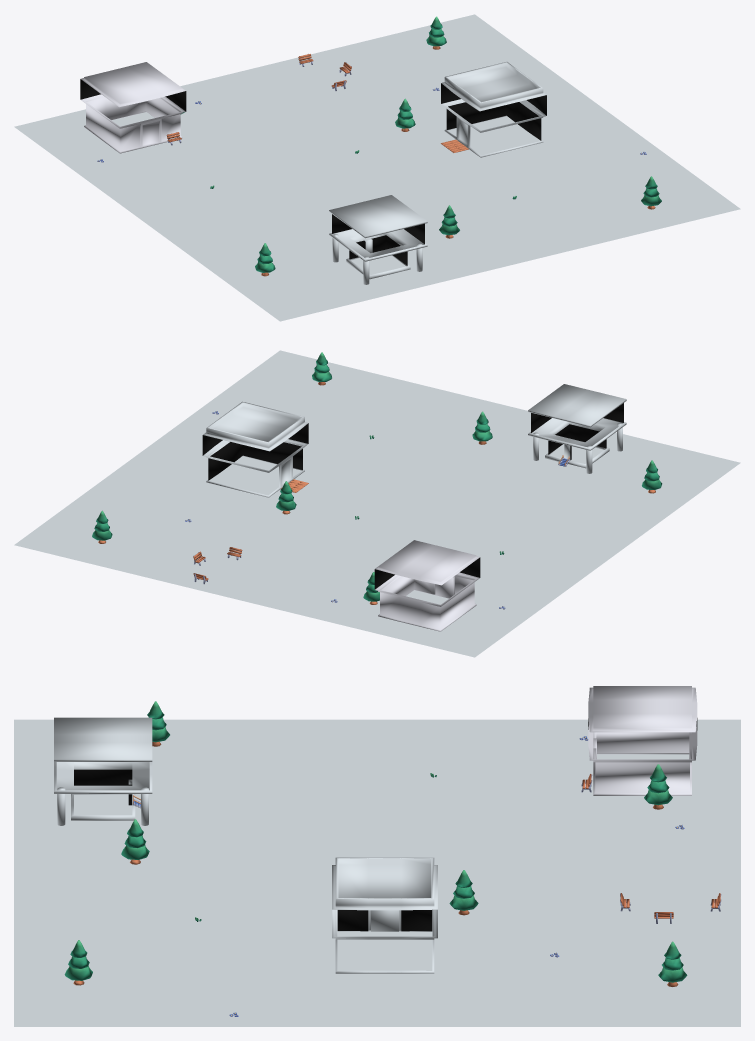
File: port_world.glb
3 views of the same model, one above another, from view 1: azimuth 30°, elevation 25°; view 2: azimuth 150°, elevation 25°; view 3: azimuth 270°, elevation 25° (orthographic). The views are drawn at different scales.
Visible parts, largest first — view 1: Plane.005; view 2: Plane.005; view 3: Plane.005, tree.003, tree.004, tree.005, tree.001, tree, tree.002.
Boxes of the visible parts, x1,y1,x2,y2 form: Plane.005: (14,14,740,321); Plane.005: (14,350,740,657); Plane.005: (14,686,740,1026); tree.003: (64,940,92,985); tree.004: (121,819,149,864); tree.005: (658,941,687,986); tree.001: (449,870,478,915); tree: (644,764,672,809); tree.002: (147,701,169,746).
Size of the model in its own units: 61.01 by 6.97 by 61.01.
9 materials, 6 textured.
